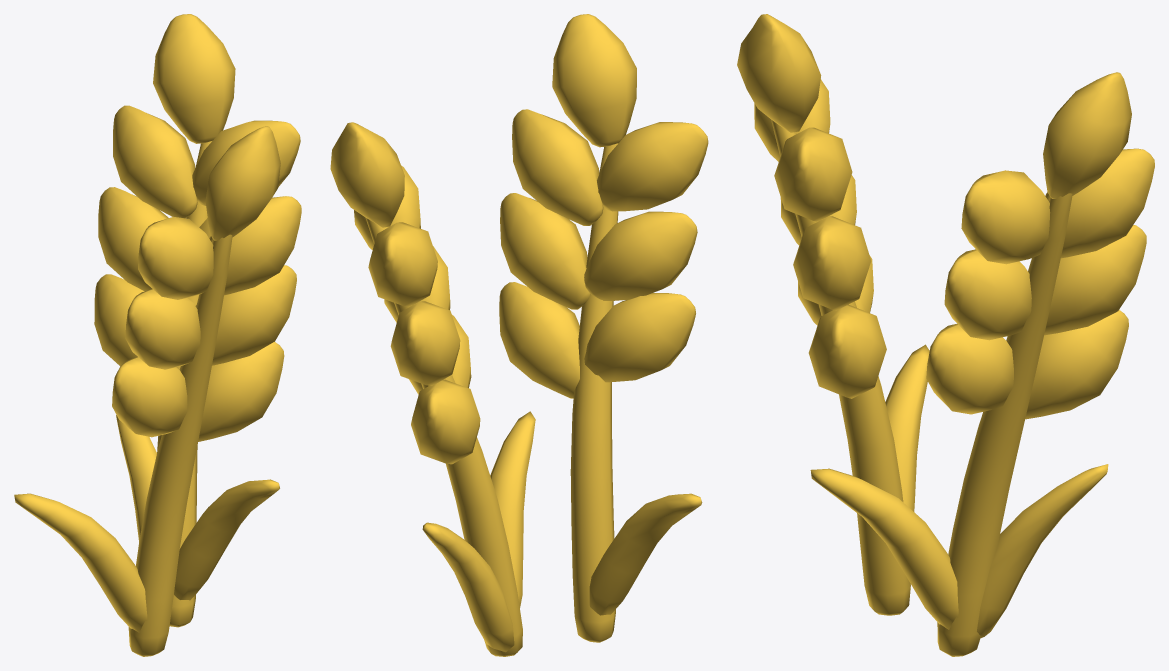
File: wheat stage 4.glb
3 renders of one model, left to right at view 1: azimuth 30°, elevation 25°; view 2: azimuth 150°, elevation 25°; view 3: azimuth 270°, elevation 25°, orthographic. The views are drawn at different scales.
Parts seen in each view (by area): view 1: WheatStage4; view 2: WheatStage4; view 3: WheatStage4.
Part boxes in pixels (bbox=[...]): WheatStage4: bbox=[14, 14, 301, 656]; WheatStage4: bbox=[330, 14, 708, 656]; WheatStage4: bbox=[737, 14, 1154, 656].
Bounding box in the file's own units: 0.5846 × 1.02 × 0.6032.
1 material, 1 textured.
